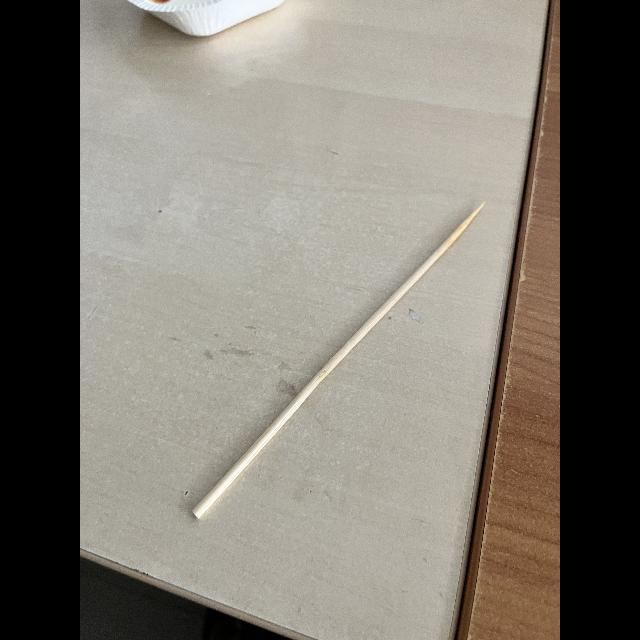stick: (176, 197, 494, 523)
